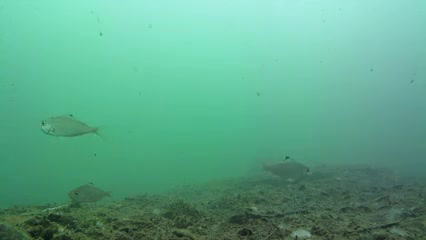smallfish: (29, 109, 107, 146), (253, 150, 323, 179), (66, 178, 114, 212)
